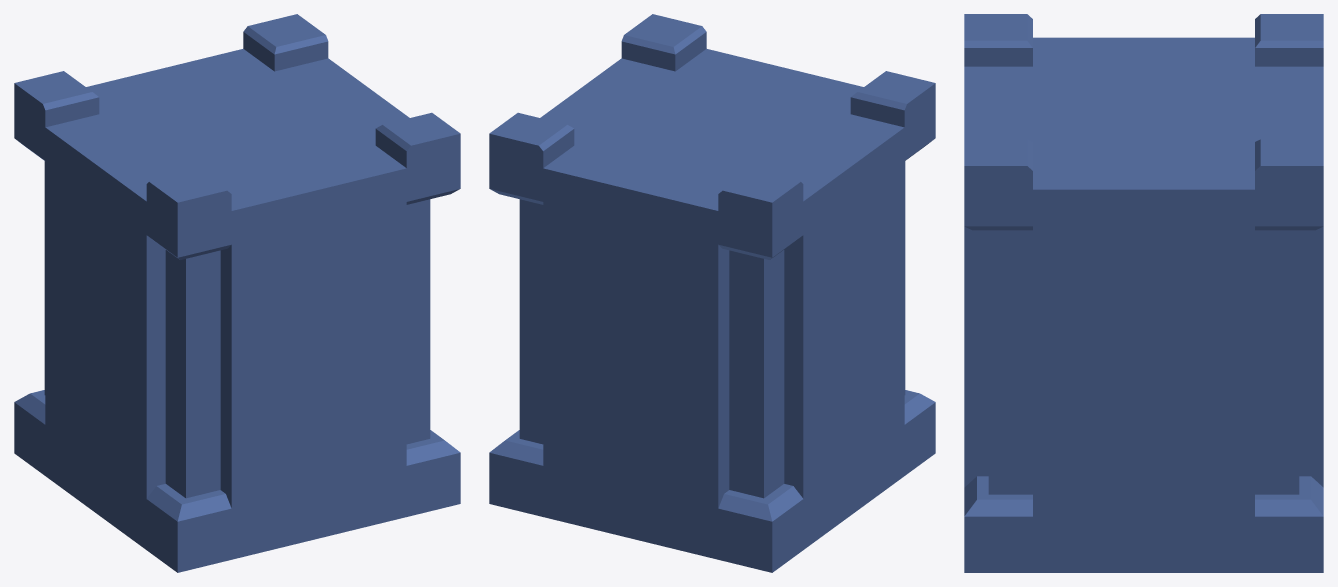
File: Wall_Center_01.fbx
3 views of the same model, side by side, from view 1: azimuth 30°, elevation 25°; view 2: azimuth 150°, elevation 25°; view 3: azimuth 270°, elevation 25° (orthographic). The views are drawn at different scales.
Visible parts, largest first — view 1: Wall_Center_01; view 2: Wall_Center_01; view 3: Wall_Center_01.
Boxes of the visible parts, bbox=[...] form: Wall_Center_01: bbox=[14, 14, 460, 572]; Wall_Center_01: bbox=[489, 14, 935, 572]; Wall_Center_01: bbox=[964, 14, 1323, 572].
Bounding box in the file's own units: 160 × 200 × 160.
